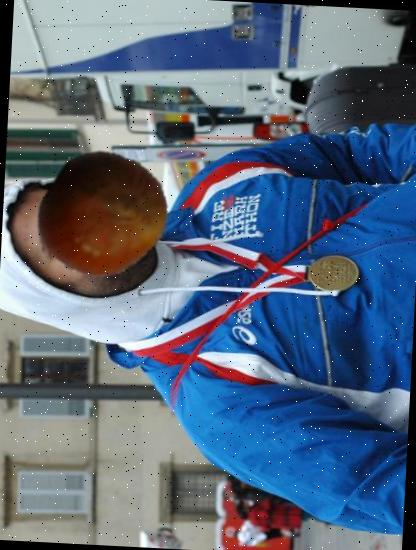Nut: (36, 147, 172, 283)
